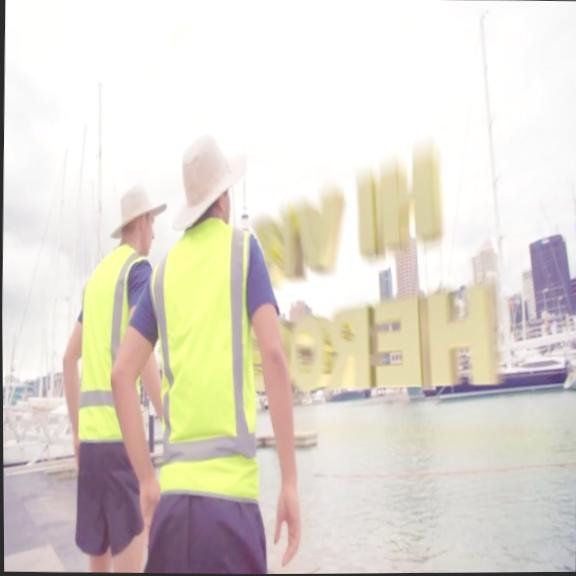safety_vest: (144, 217, 267, 504), (73, 241, 152, 445)
